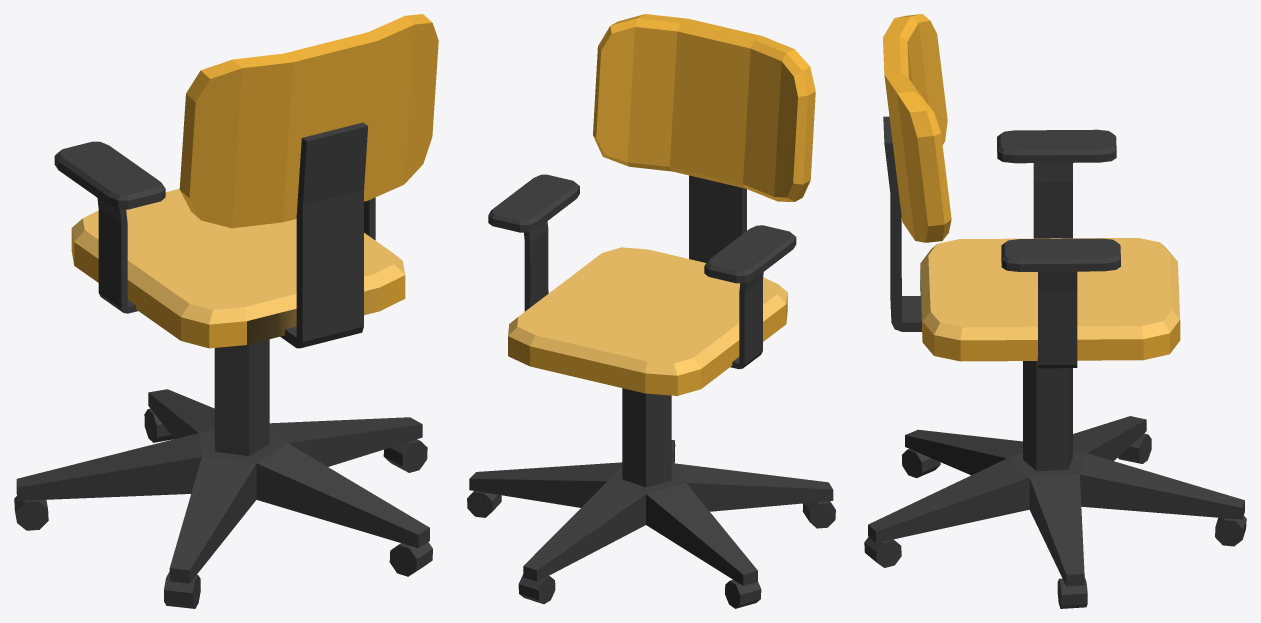
File: ghexoay.fbx
3 views of the same model, side by side, from view 1: azimuth 30°, elevation 25°; view 2: azimuth 150°, elevation 25°; view 3: azimuth 270°, elevation 25° (orthographic). The views are drawn at different scales.
Parts seen in each view (by area): view 1: Desk_chair12; view 2: Desk_chair12; view 3: Desk_chair12.
Boxes of the visible parts, x1,y1,x2,y2 form: Desk_chair12: (14, 14, 438, 608); Desk_chair12: (467, 14, 835, 608); Desk_chair12: (864, 14, 1246, 608).
Size of the model in its own units: 126 by 174 by 127.
Materials: 1 (1 with a texture image).
